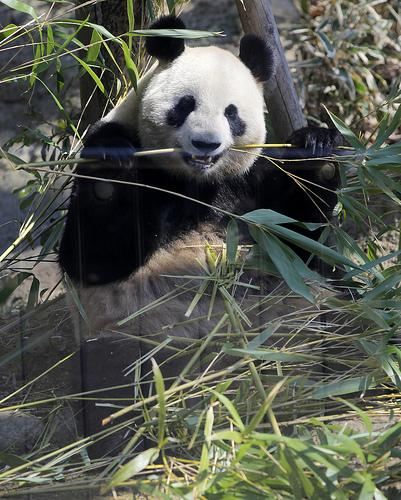panda: (59, 34, 346, 339)
